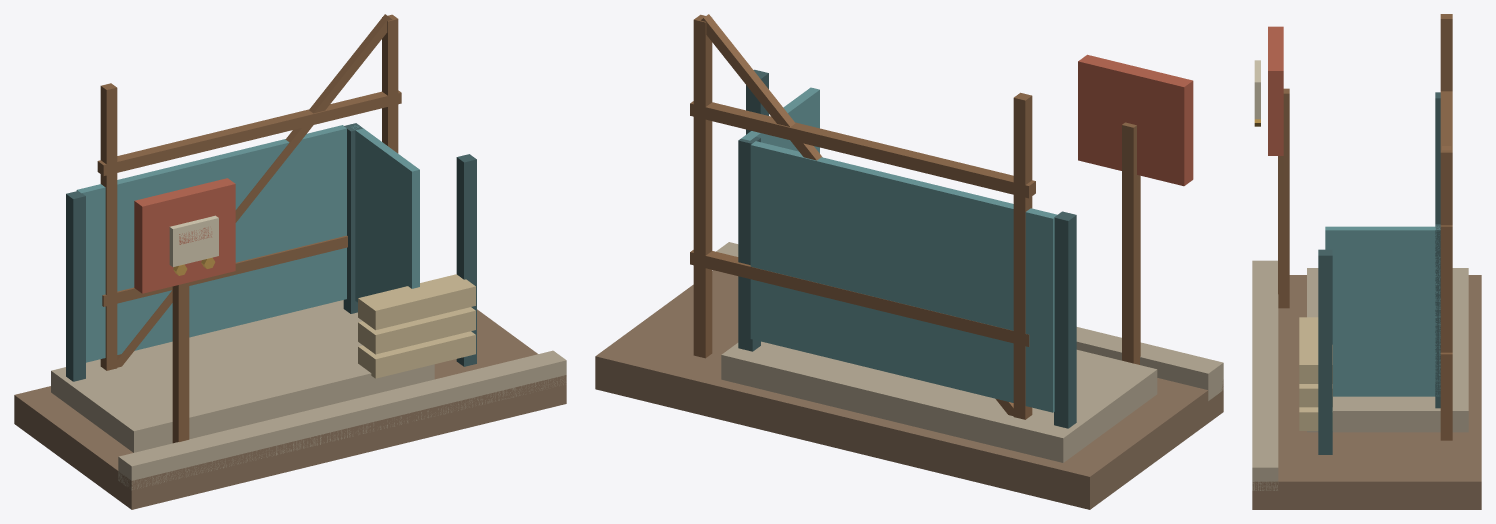
Rendered from bus-stop-sunrise-half-built.glb.
3 renders of one model, left to right at view 1: azimuth 30°, elevation 25°; view 2: azimuth 150°, elevation 25°; view 3: azimuth 270°, elevation 25°, orthographic. The views are drawn at different scales.
Parts seen in each view (by area): view 1: bus-stop; view 2: bus-stop; view 3: bus-stop.
Part boxes in pixels (x1=…): bus-stop: x1=14, y1=14, x2=566, y2=509; bus-stop: x1=595, y1=14, x2=1223, y2=509; bus-stop: x1=1252, y1=14, x2=1481, y2=509.
Size of the model in its own units: 1.88 by 1.38 by 0.88.
